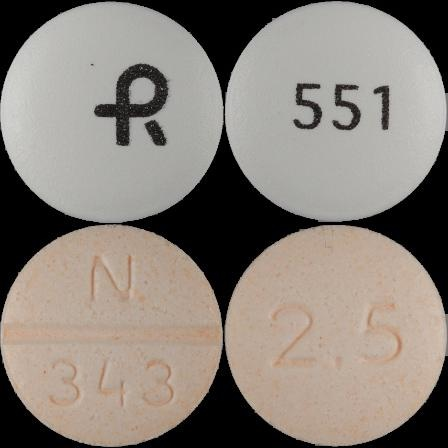0615-4507: (0, 0, 224, 224)
